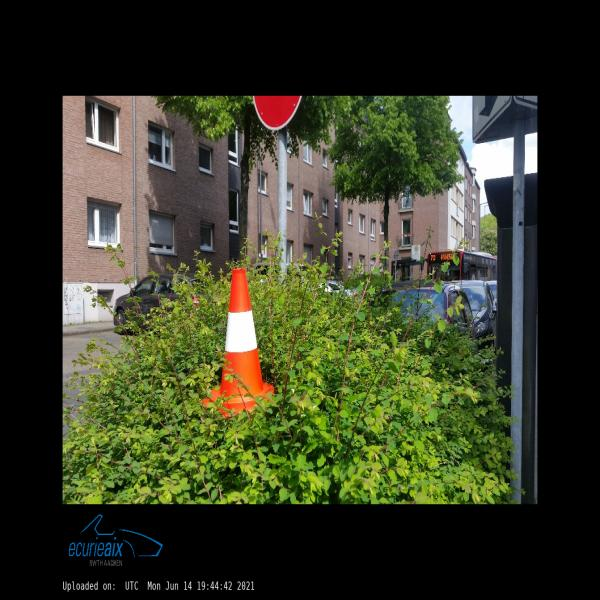orange_cone: (202, 268, 274, 418)
